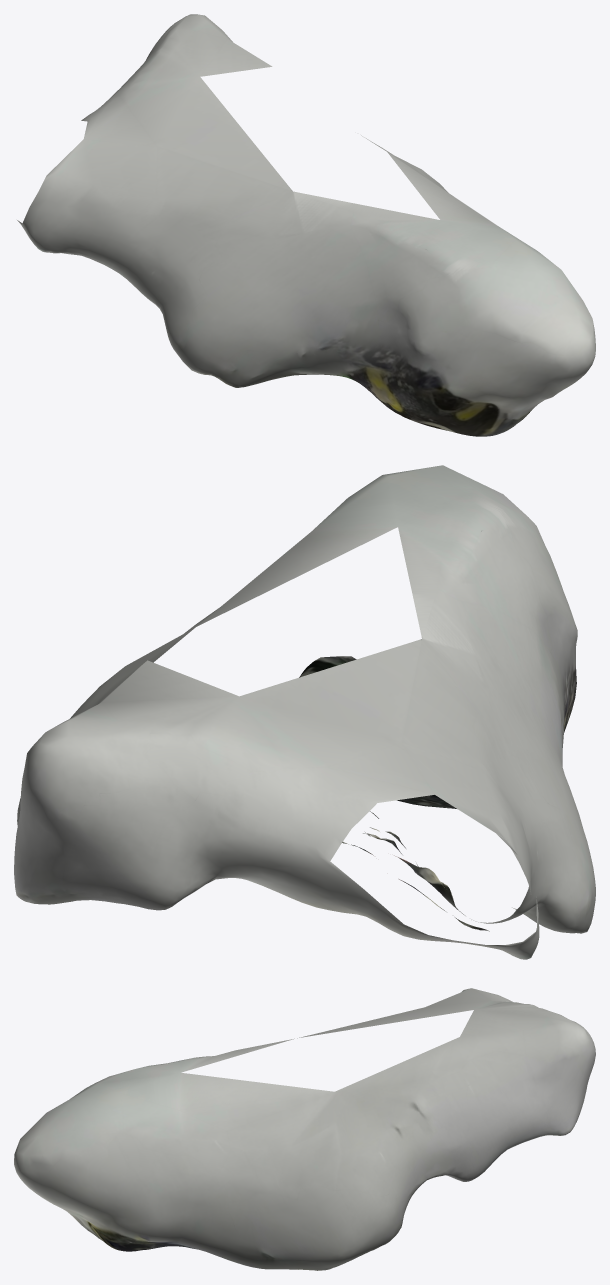
The picture shows the model from 3 angles, top to bottom: view 1: azimuth 30°, elevation 25°; view 2: azimuth 150°, elevation 25°; view 3: azimuth 270°, elevation 25°; orthographic projection. The views are drawn at different scales.
Bounding box in the file's own units: 0.0863 × 0.0519 × 0.1319.
1 material, 1 textured.
